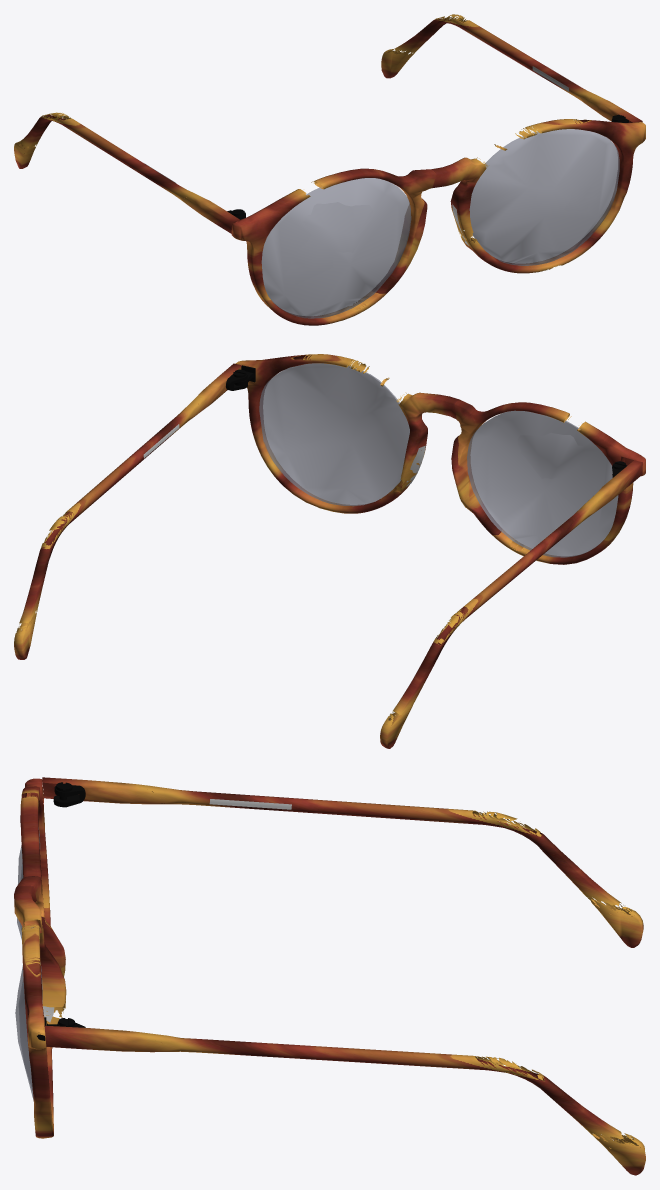
The model's file is Glasses.FBX.
3 views of the same model, one above another, from view 1: azimuth 30°, elevation 25°; view 2: azimuth 150°, elevation 25°; view 3: azimuth 270°, elevation 25° (orthographic). The views are drawn at different scales.
Parts seen in each view (by area): view 1: Glasses; view 2: Glasses; view 3: Glasses.
Boxes of the visible parts, bbox=[...] form: Glasses: bbox=[14, 14, 645, 325]; Glasses: bbox=[14, 354, 645, 748]; Glasses: bbox=[14, 777, 645, 1175].
Size of the model in its own units: 198 by 68.68 by 208.
